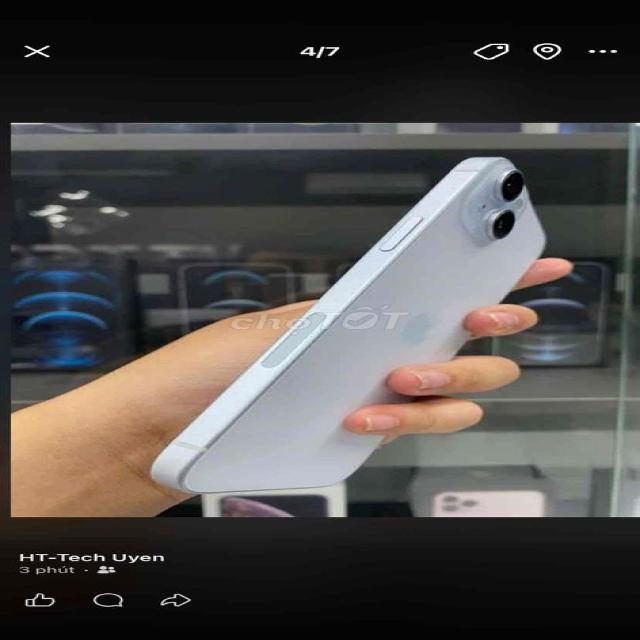gen_15: (158, 148, 556, 516)
